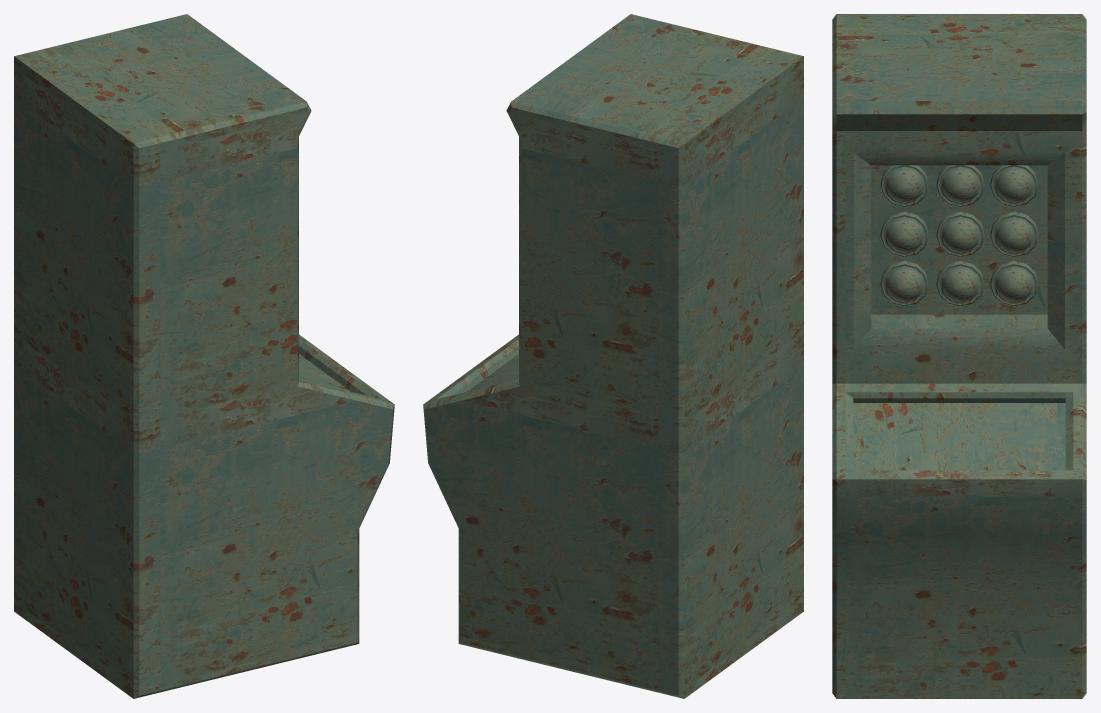
Rendered from lightgame.fbx.
The picture shows the model from 3 angles, left to right: view 1: azimuth 30°, elevation 25°; view 2: azimuth 150°, elevation 25°; view 3: azimuth 270°, elevation 25°; orthographic projection. The views are drawn at different scales.
Parts seen in each view (by area): view 1: b5_lightgame:pCube1017; view 2: b5_lightgame:pCube1017; view 3: b5_lightgame:pCube1017, b5_lightgame:pSphere32, b5_lightgame:pSphere33, b5_lightgame:pSphere29, b5_lightgame:pSphere24, b5_lightgame:pSphere30, b5_lightgame:pSphere31, b5_lightgame:pSphere28, b5_lightgame:pSphere23, b5_lightgame:pSphere27.
Part boxes in pixels (x1=…): b5_lightgame:pCube1017: x1=14, y1=14, x2=394, y2=698; b5_lightgame:pCube1017: x1=423, y1=14, x2=803, y2=698; b5_lightgame:pCube1017: x1=832, y1=14, x2=1086, y2=698; b5_lightgame:pSphere32: x1=936, y1=261, x2=984, y2=306; b5_lightgame:pSphere33: x1=880, y1=261, x2=928, y2=306; b5_lightgame:pSphere29: x1=990, y1=211, x2=1038, y2=257; b5_lightgame:pSphere24: x1=936, y1=211, x2=984, y2=257; b5_lightgame:pSphere30: x1=880, y1=211, x2=928, y2=257; b5_lightgame:pSphere31: x1=990, y1=261, x2=1038, y2=306; b5_lightgame:pSphere28: x1=880, y1=165, x2=928, y2=207; b5_lightgame:pSphere23: x1=990, y1=165, x2=1038, y2=207; b5_lightgame:pSphere27: x1=936, y1=165, x2=984, y2=207.
Size of the model in its own units: 0.9587 by 1.95 by 0.7862.
Materials: 1 (1 with a texture image).
